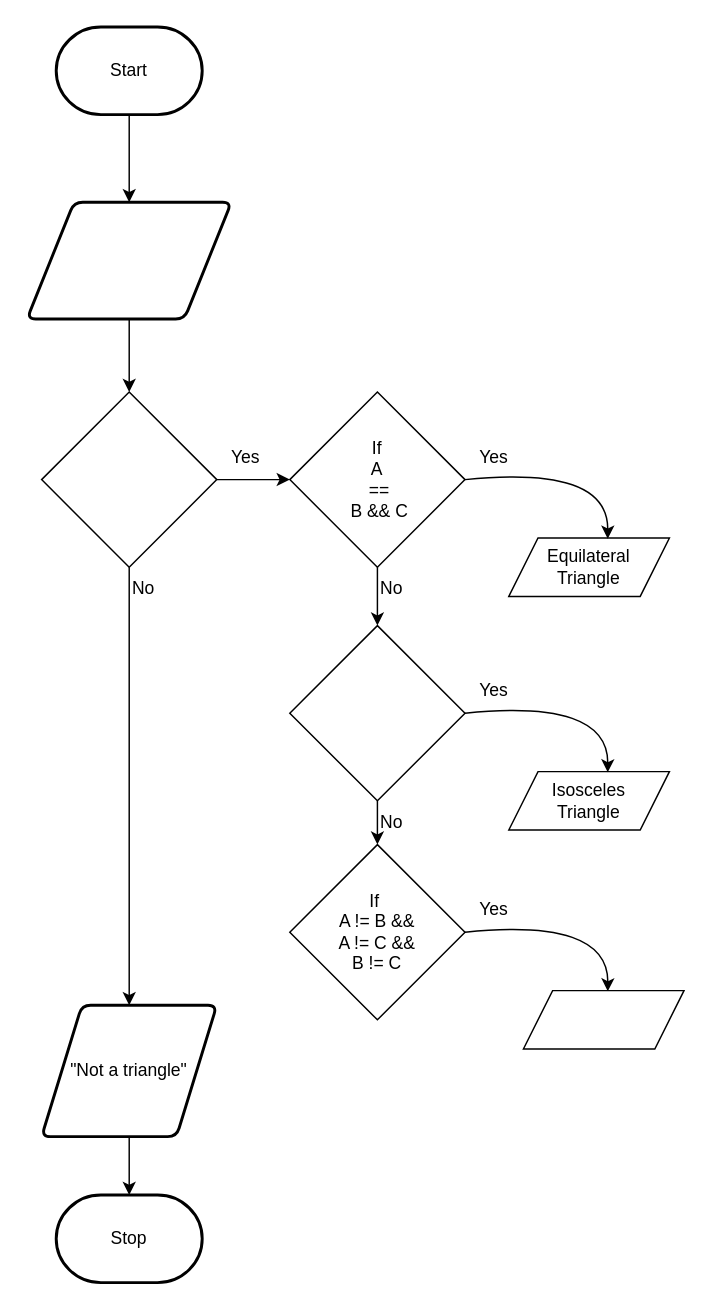
This 710x1308 diagram has some shape labels left out. Each missing label, with the centre of its shape:
If A == B l l A == C l l B == C: pixel 376 712
If A+B+C == 180*: pixel 128 479
Scalene Triangle: pixel 603 1019
Side length A Side length B Side length C: pixel 128 260
